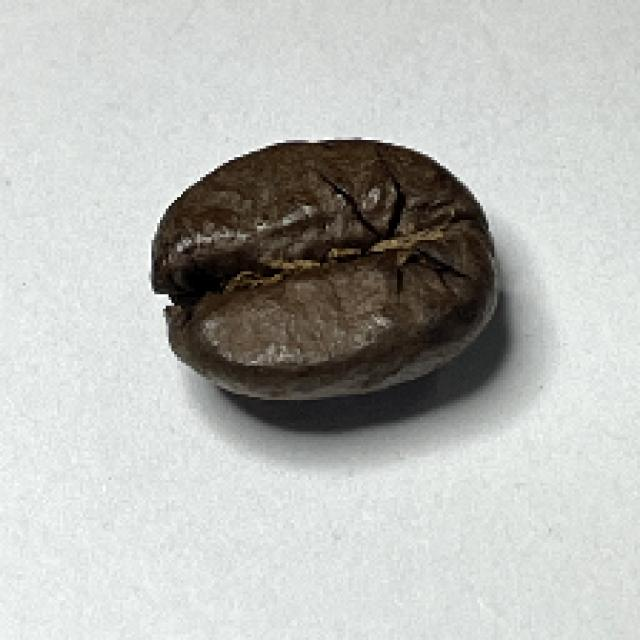bean: (144, 135, 501, 399)
